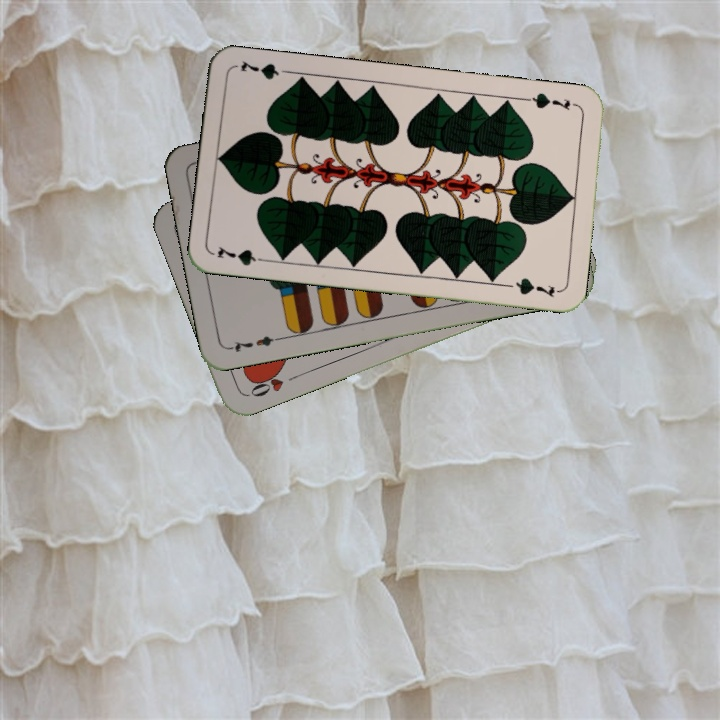E7: (225, 332, 283, 355)
G7: (521, 88, 580, 113), (213, 243, 271, 268)
HO: (246, 365, 301, 400)
